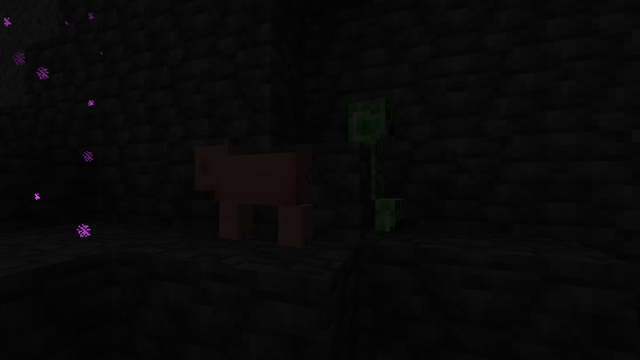cochons: (207, 148, 306, 249)
creepers: (346, 89, 397, 231)
